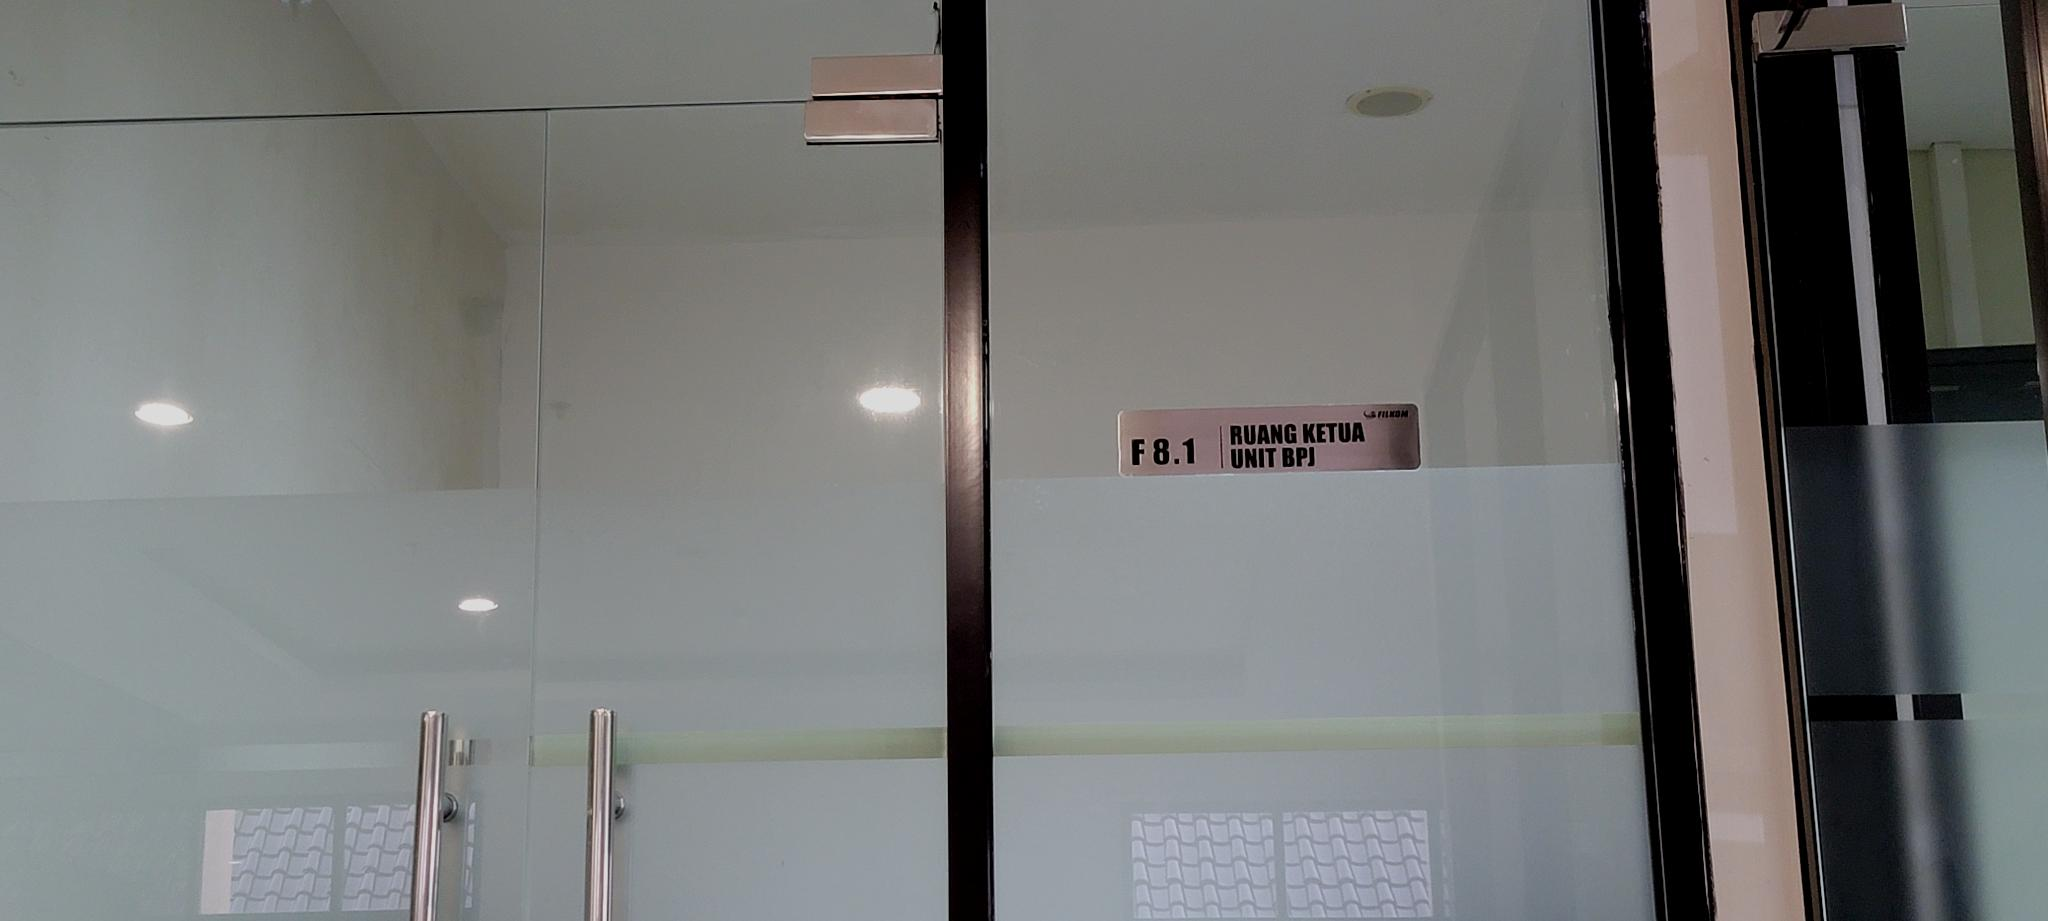plate: (1114, 401, 1418, 478)
